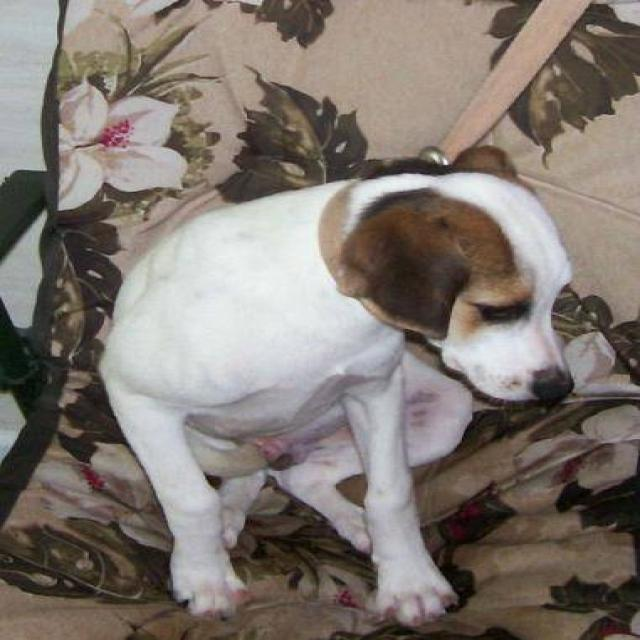dog: (96, 143, 576, 628)
